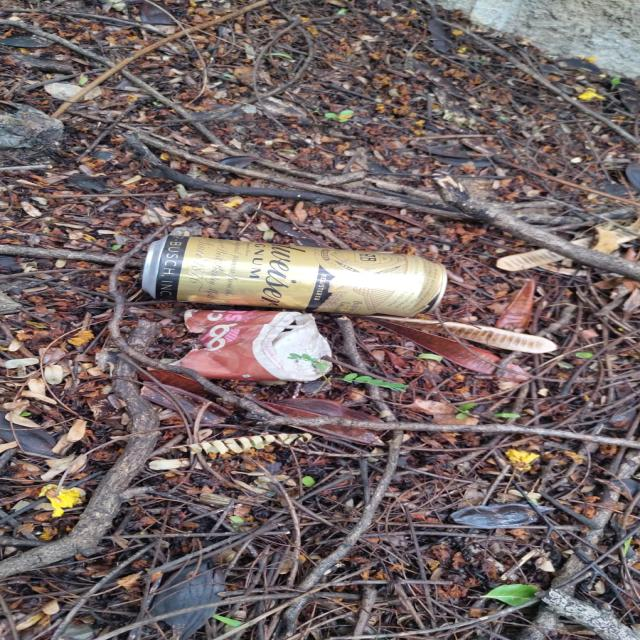dry: (133, 226, 490, 324), (150, 296, 391, 406)
